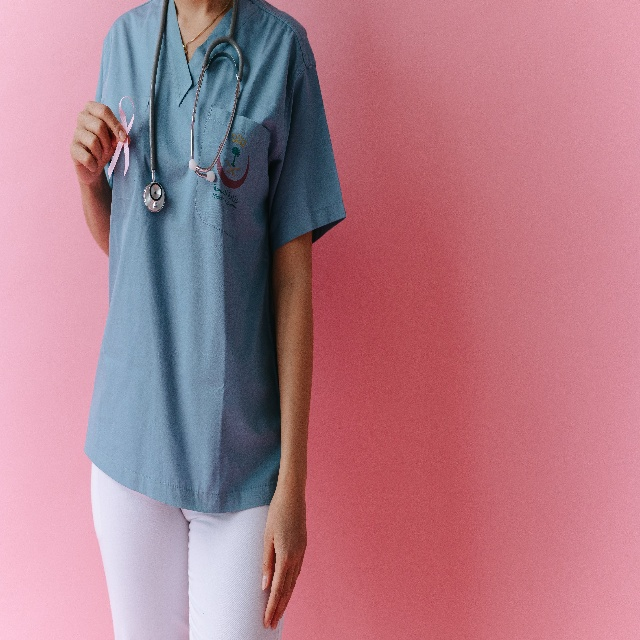Sin_guantes: (261, 472, 309, 631), (68, 98, 131, 184)
